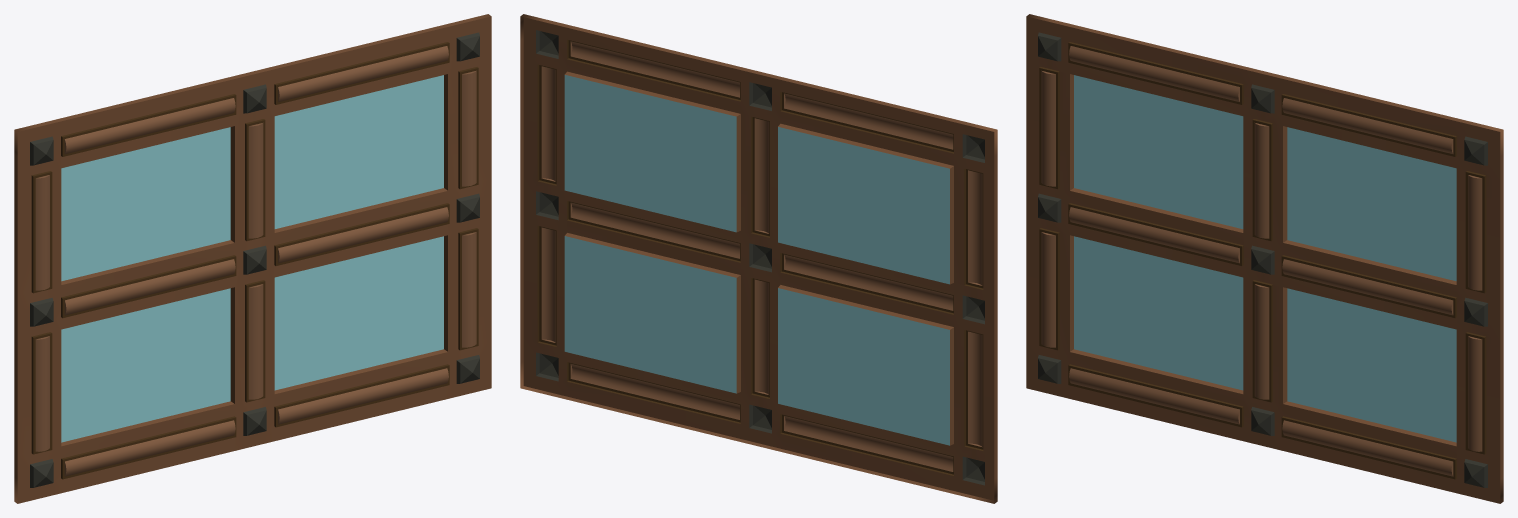
The model's file is OT_016_wooden_window.glb.
The picture shows the model from 3 angles, left to right: view 1: azimuth 30°, elevation 25°; view 2: azimuth 150°, elevation 25°; view 3: azimuth 330°, elevation 25°; orthographic projection.
Parts seen in each view (by area): view 1: window, glass; view 2: window, glass; view 3: window, glass.
Boxes of the visible parts, x1,y1,x2,y2 form: window: [14, 14, 491, 503]; glass: [61, 75, 443, 442]; window: [520, 14, 997, 503]; glass: [564, 75, 949, 445]; window: [1026, 14, 1503, 503]; glass: [1074, 75, 1456, 442].
Size of the model in its own units: 3 by 2.25 by 0.0889.
